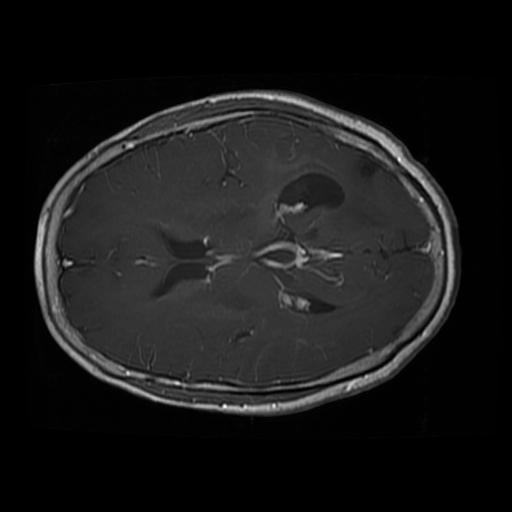glioma: (356, 155, 379, 180)
